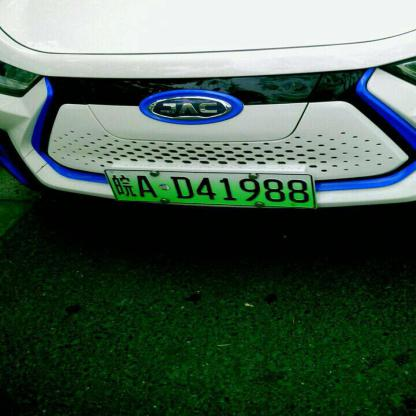lp: (104, 170, 315, 208)
